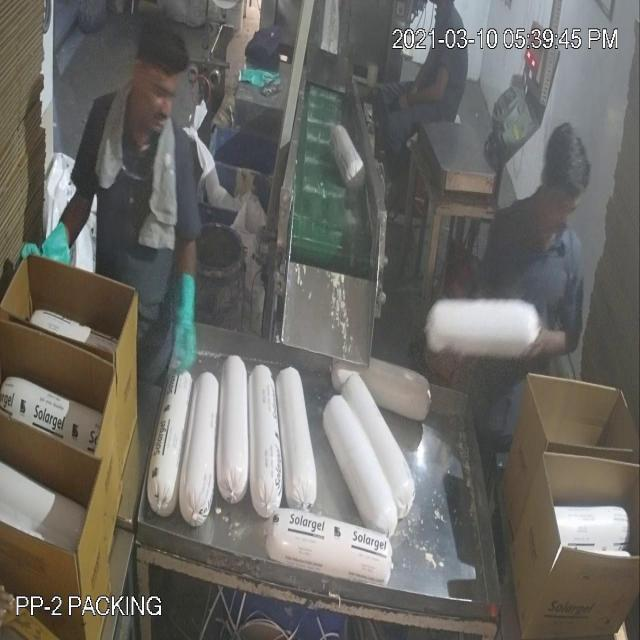Gloves: (36, 70, 426, 330)
